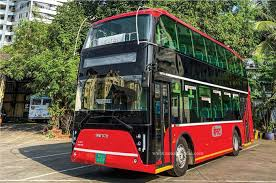bus: (70, 8, 255, 176)
